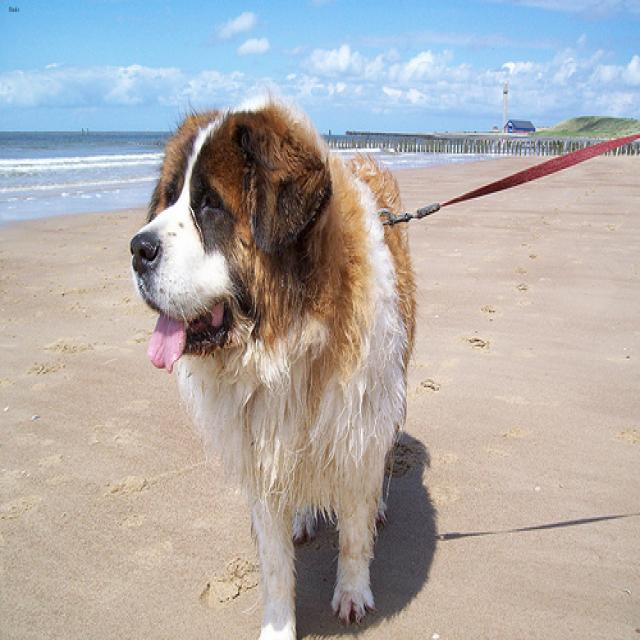dog-saint_bernard: (122, 89, 425, 637)
